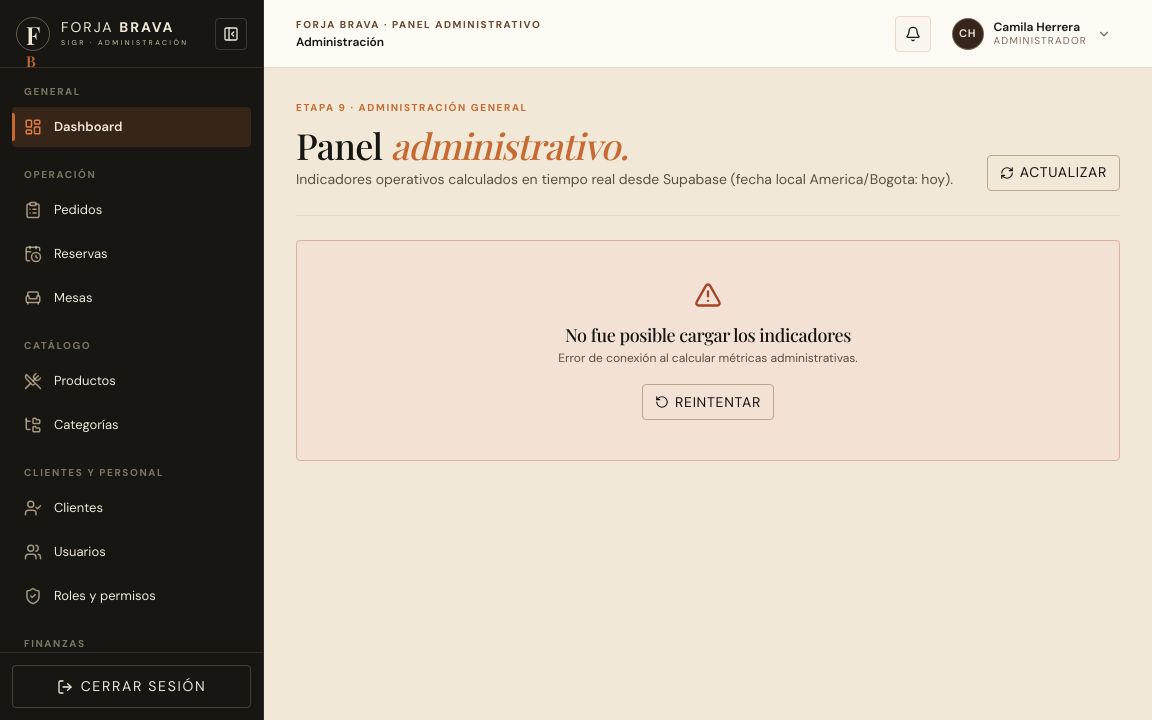
Test: Integración — Layouts, navegación por rol, breadcrumbs y menú de usuario › renderiza AdminLayout con navegación agrupada, colapso de sidebar y notificaciones
Expected: the element named "navegación administrativa" is shown, [0,0,264,719]
Expected: the text "Operación" is shown, [24,168,96,181]
Contraer y expandir sidebar en desktop
Click the button named "contraer menú lateral" at coordinates (231, 34), box [215,18,247,50]
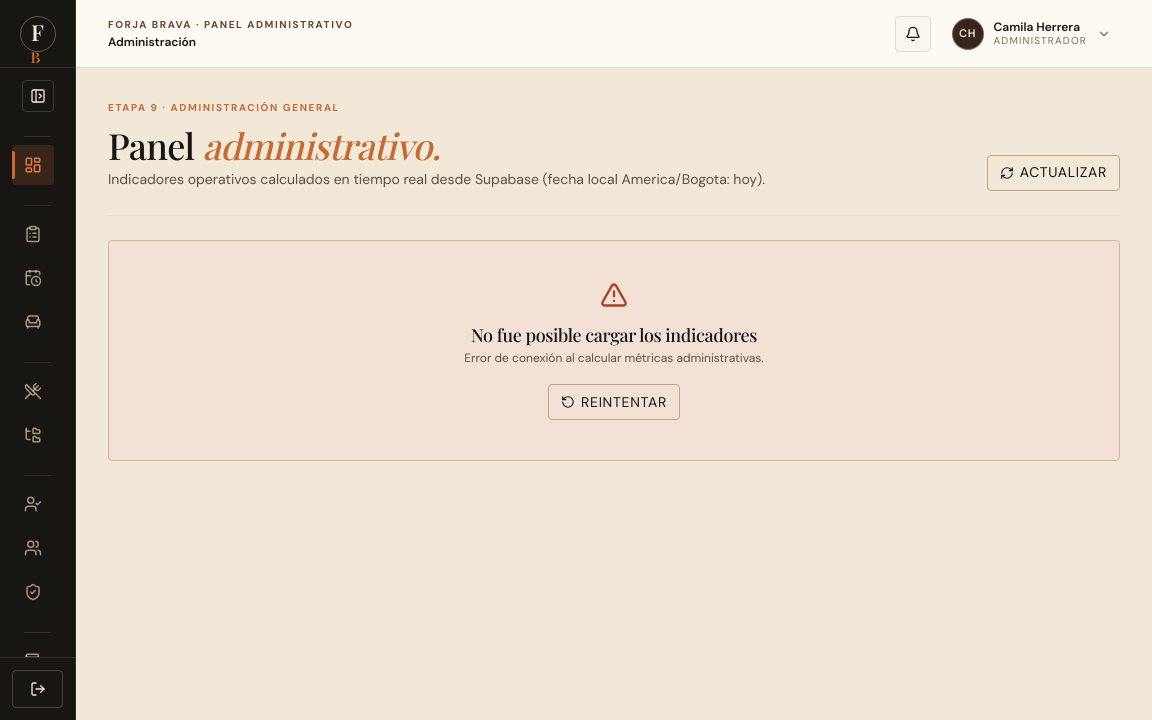
Now the button named "expandir menú lateral" is shown, box [22,80,54,112]
